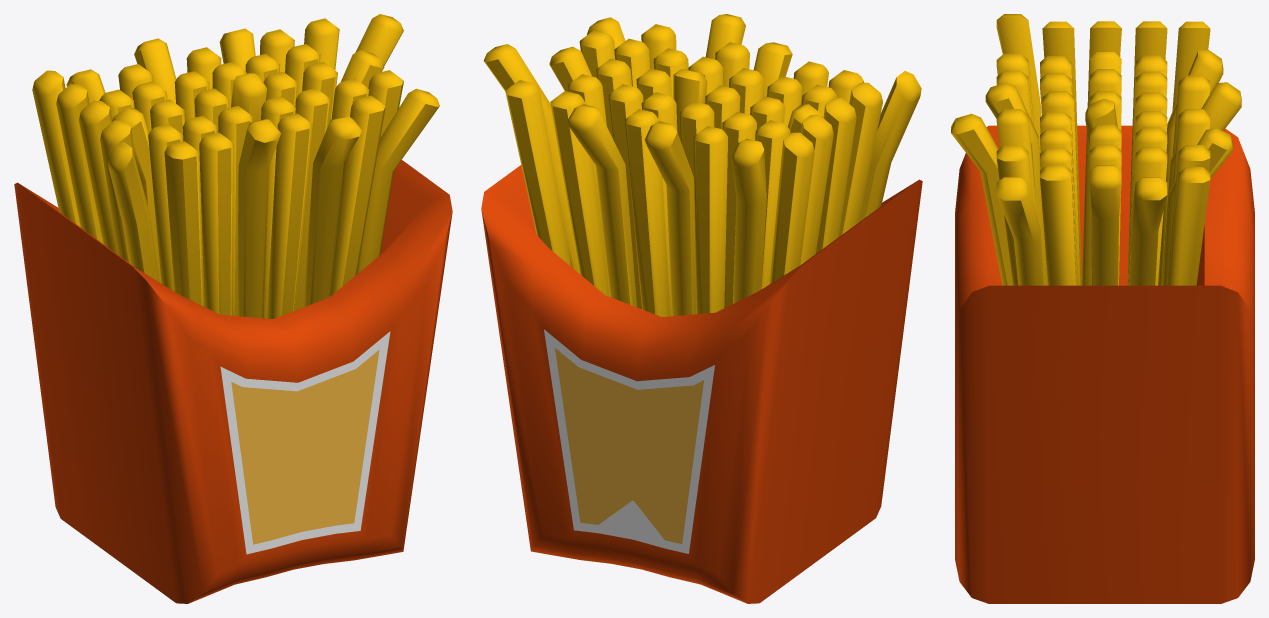
Rendered from Fries.fbx.
3 views of the same model, side by side, from view 1: azimuth 30°, elevation 25°; view 2: azimuth 150°, elevation 25°; view 3: azimuth 270°, elevation 25° (orthographic).
Parts seen in each view (by area): view 1: Fries; view 2: Fries; view 3: Fries.
Part boxes in pixels (x1,y1,x2,y2): Fries: (14, 14, 452, 603); Fries: (481, 14, 922, 603); Fries: (951, 14, 1254, 603).
Bounding box in the file's own units: 0.1143 × 0.1411 × 0.0838.
